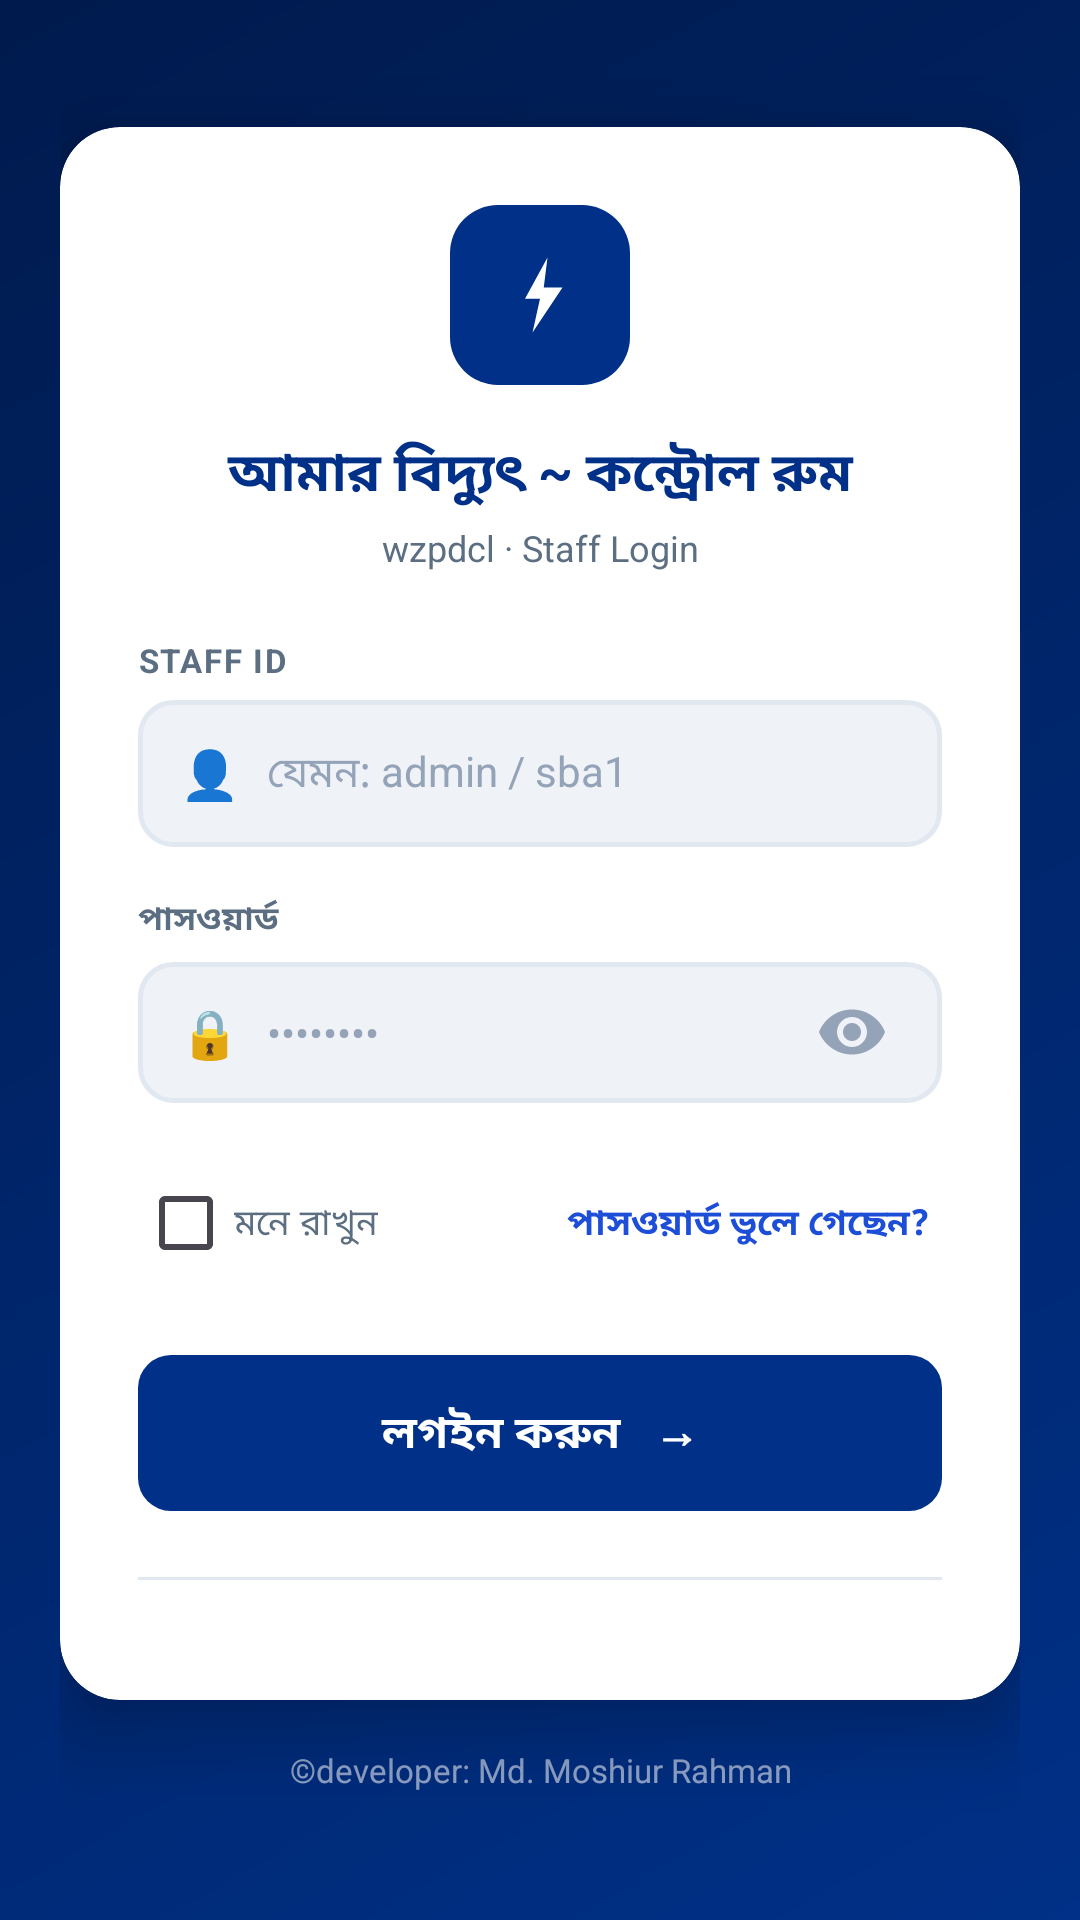

Named icons in this screenshot (1080×1920) and their centers, (x=x, y=y):
bolt: (x=544, y=295)
toggle password: (x=852, y=1032)
